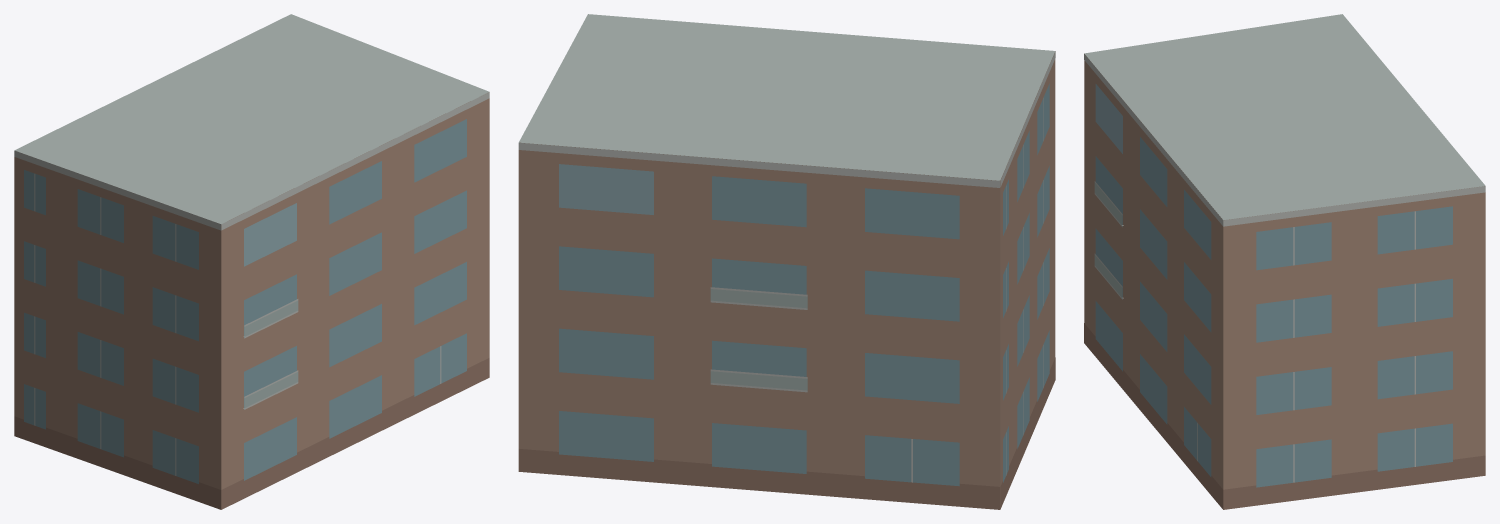
The model's file is survey-upis-32673901.glb.
3 views of the same model, side by side, from view 1: azimuth 30°, elevation 25°; view 2: azimuth 150°, elevation 25°; view 3: azimuth 270°, elevation 25° (orthographic). The views are drawn at different scales.
Parts seen in each view (by area): view 1: survey-upis-32673901.tmp; view 2: survey-upis-32673901.tmp; view 3: survey-upis-32673901.tmp.
Part boxes in pixels (box(x1,y1,x2,y2)): survey-upis-32673901.tmp: box(14, 14, 489, 509); survey-upis-32673901.tmp: box(518, 14, 1055, 509); survey-upis-32673901.tmp: box(1084, 14, 1485, 509).
Size of the model in its own units: 16.74 by 10.96 by 13.78.
